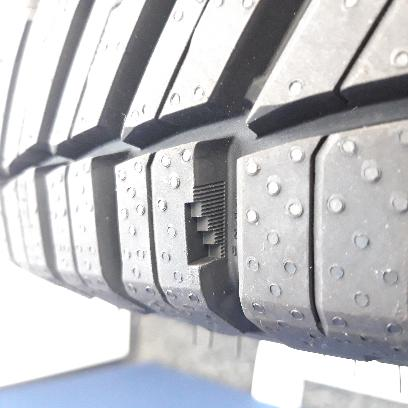temoin:100: (182, 178, 228, 269)
